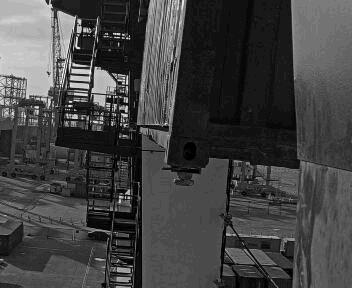twist_lock_1: (160, 159, 205, 192)
